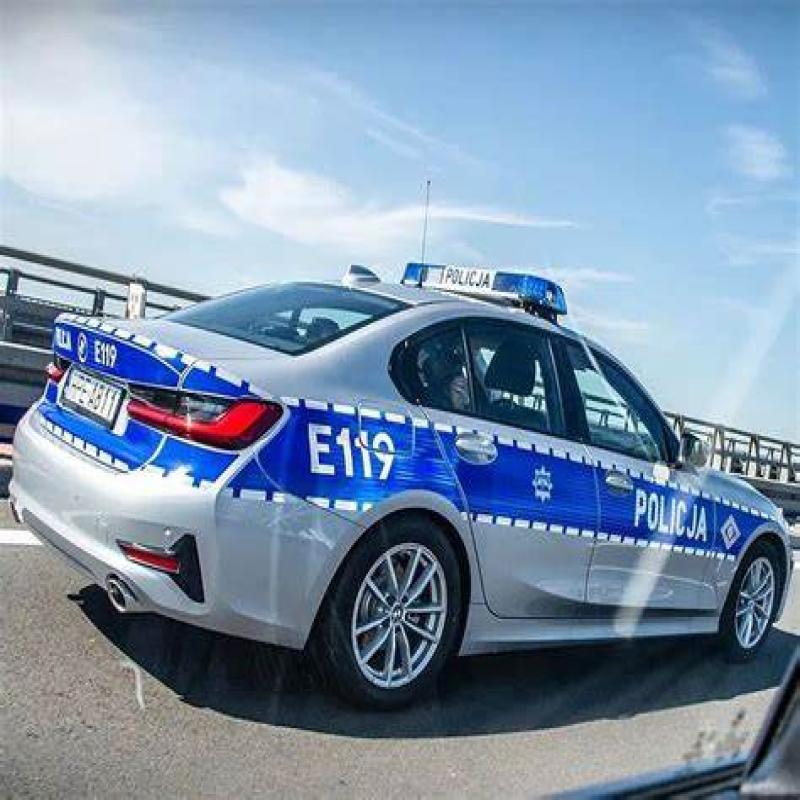AmbulanceSiren: (390, 233, 574, 326)
